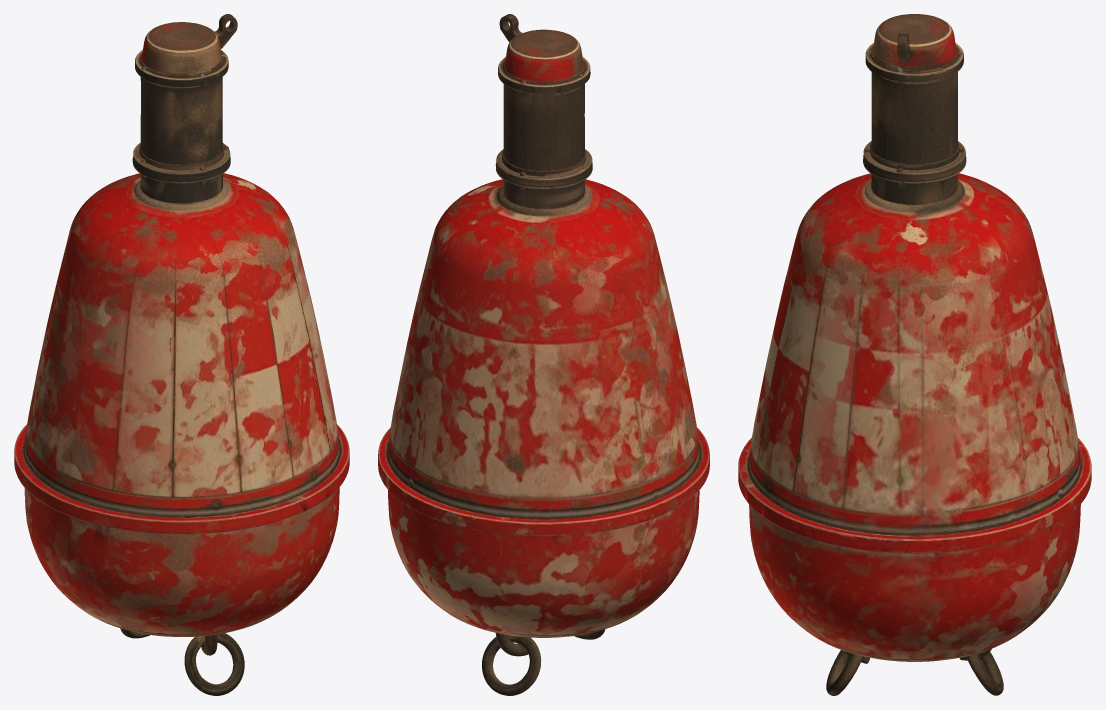
File: buoy.glb
3 renders of one model, left to right at view 1: azimuth 30°, elevation 25°; view 2: azimuth 150°, elevation 25°; view 3: azimuth 270°, elevation 25°, orthographic. The views are drawn at different scales.
Bounding box in the file's own units: 0.8976 × 1.9 × 0.8979.
1 material, 1 textured.
